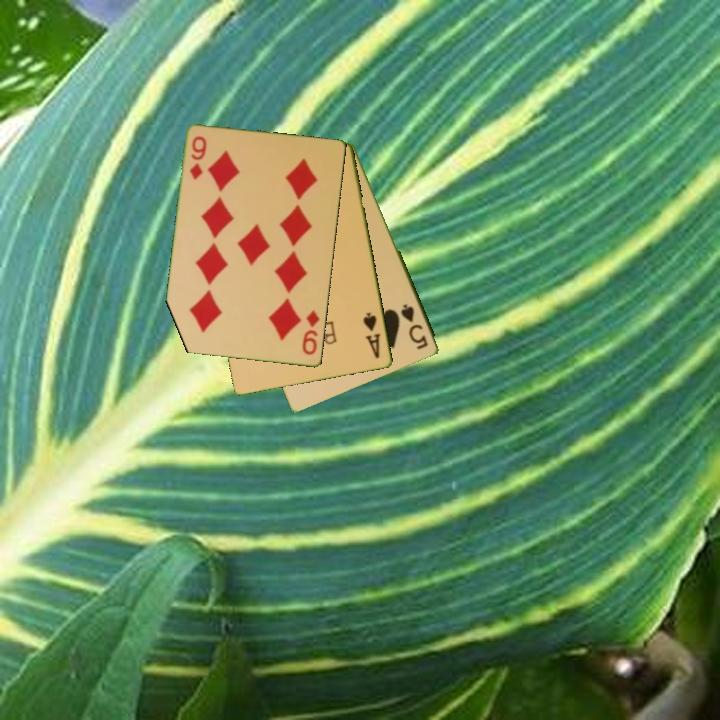5s: (397, 300, 431, 353)
9d: (299, 307, 323, 358), (186, 133, 210, 183)
As: (360, 309, 383, 362)
